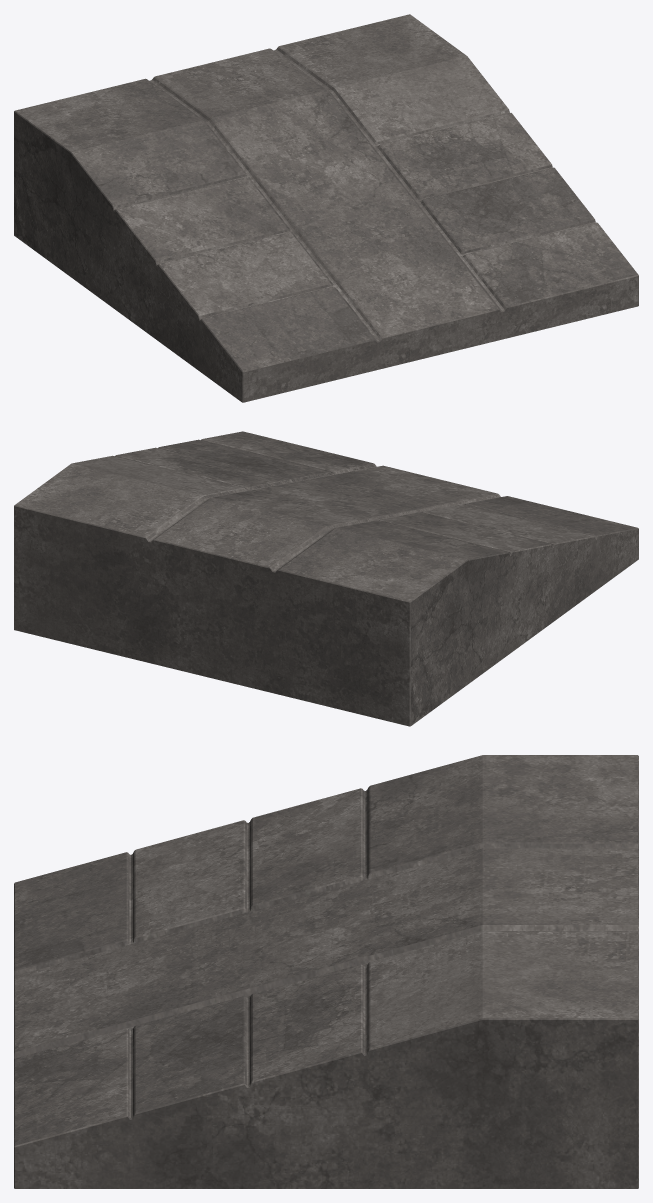
Rendered from SK6 RAMP.fbx.
The picture shows the model from 3 angles, top to bottom: view 1: azimuth 30°, elevation 25°; view 2: azimuth 150°, elevation 25°; view 3: azimuth 270°, elevation 25°; orthographic projection. The views are drawn at different scales.
Parts seen in each view (by area): view 1: SK6 RAMP; view 2: SK6 RAMP; view 3: SK6 RAMP.
Part boxes in pixels (x1,y1,x2,y2): SK6 RAMP: (14,14,638,402); SK6 RAMP: (14,431,638,726); SK6 RAMP: (14,755,638,1188).
Bounding box in the file's own units: 400 × 120 × 400.
